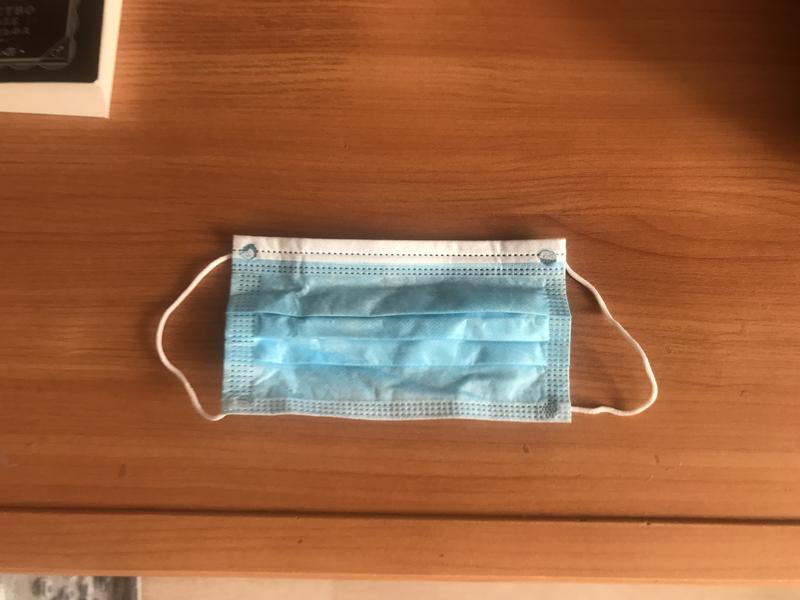medical_mask: (158, 232, 659, 430)
